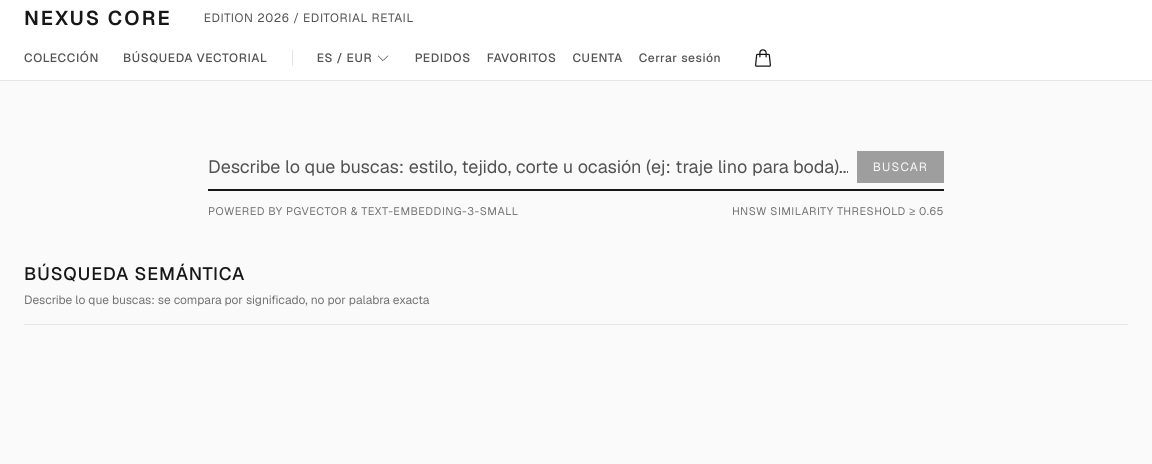
Test: SearchPage (búsqueda semántica) › R6 — traduce el error técnico de la búsqueda
Type "traje lino" into the field with placeholder "Describe lo que buscas" at (576, 167), box [208,153,944,181]
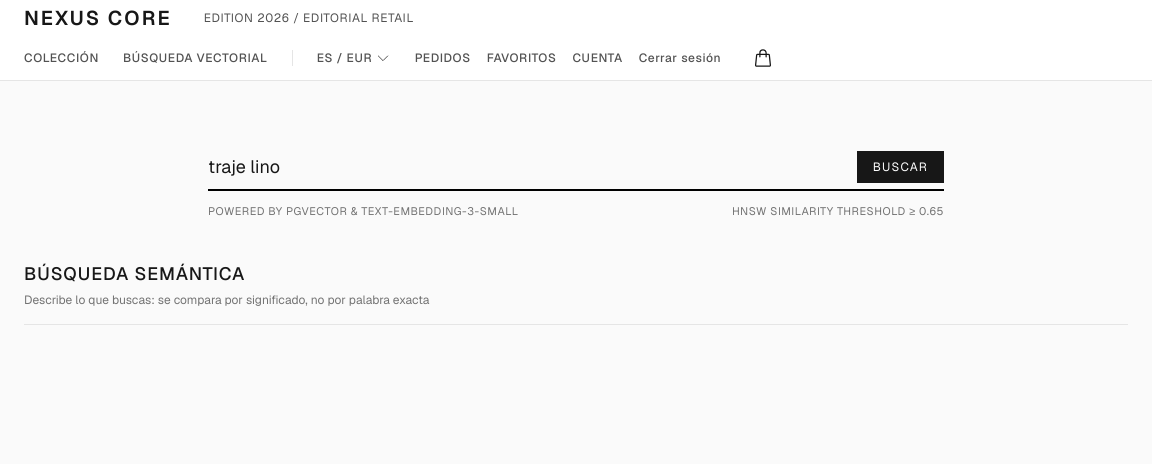
Click the button "Buscar" at (900, 167), box [857,151,944,183]
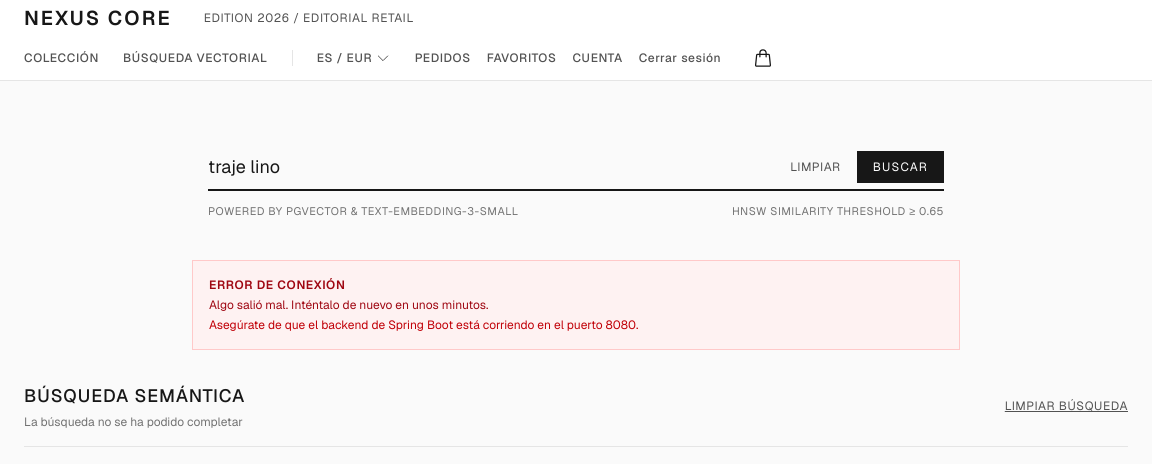
Expected: the text "Error de conexión" is shown, [209,276,346,292]
Expected: the text "Asegúrate de que el backend" is shown, [209,316,638,332]
